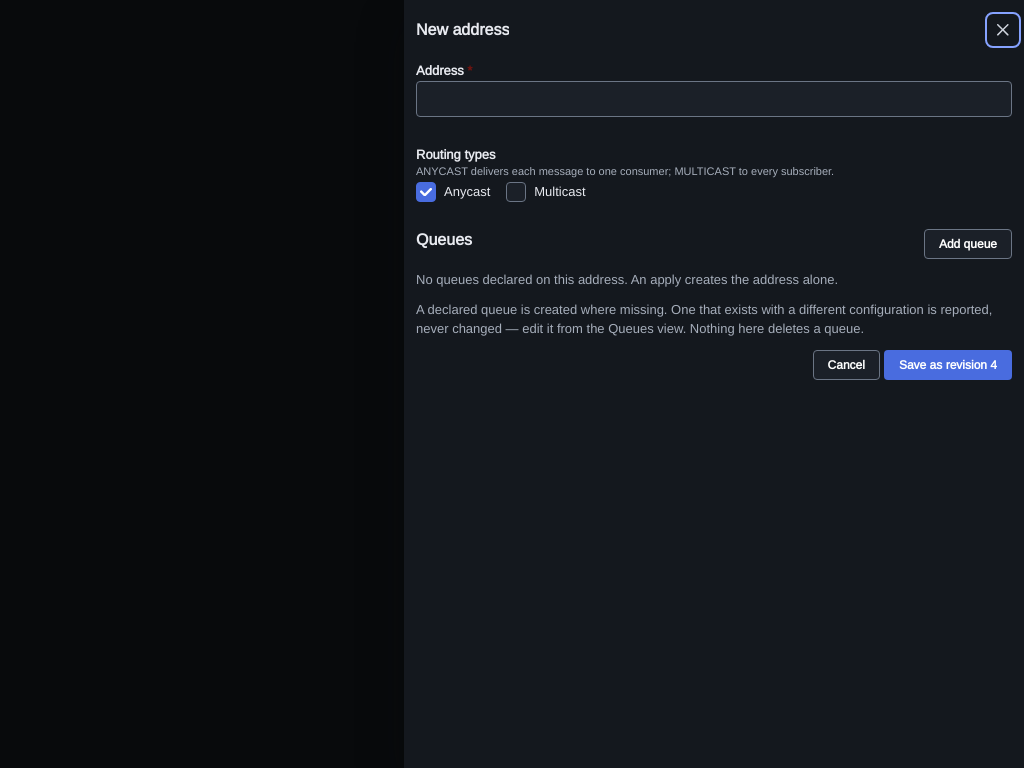
Test: AddressEditor › validates the name on blur, before any submit, and refuses one already declared
Click the field labelled "Address *".
click(714, 99)  # box x1=416 y1=81 x2=1012 y2=117
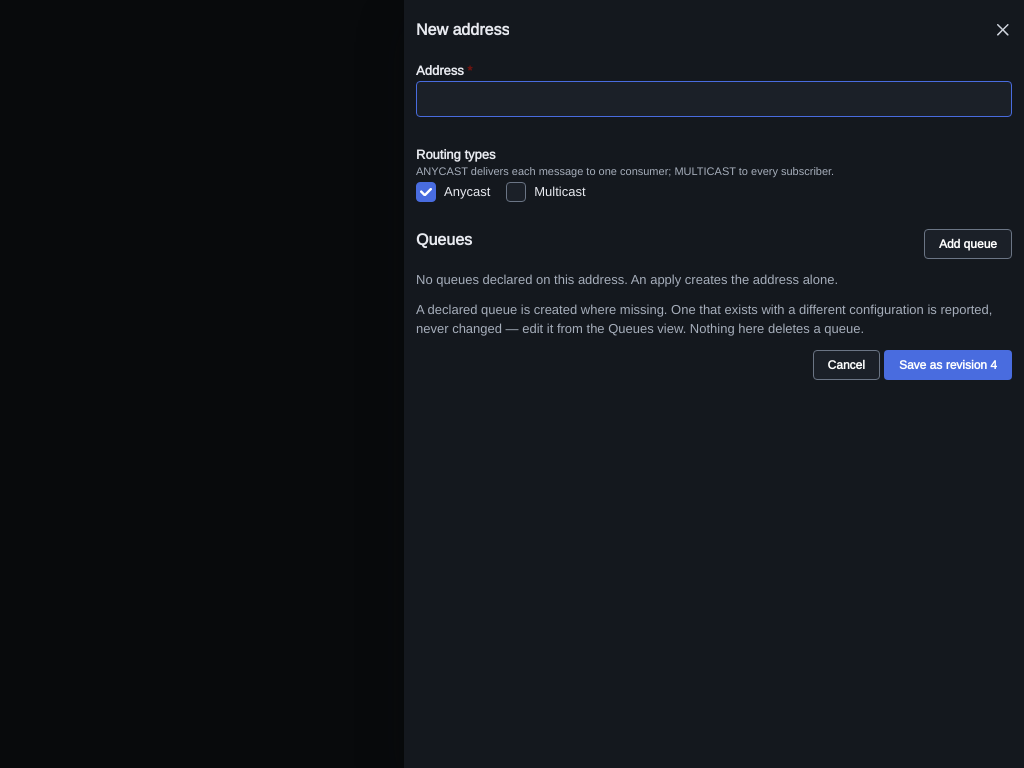
Press Tab
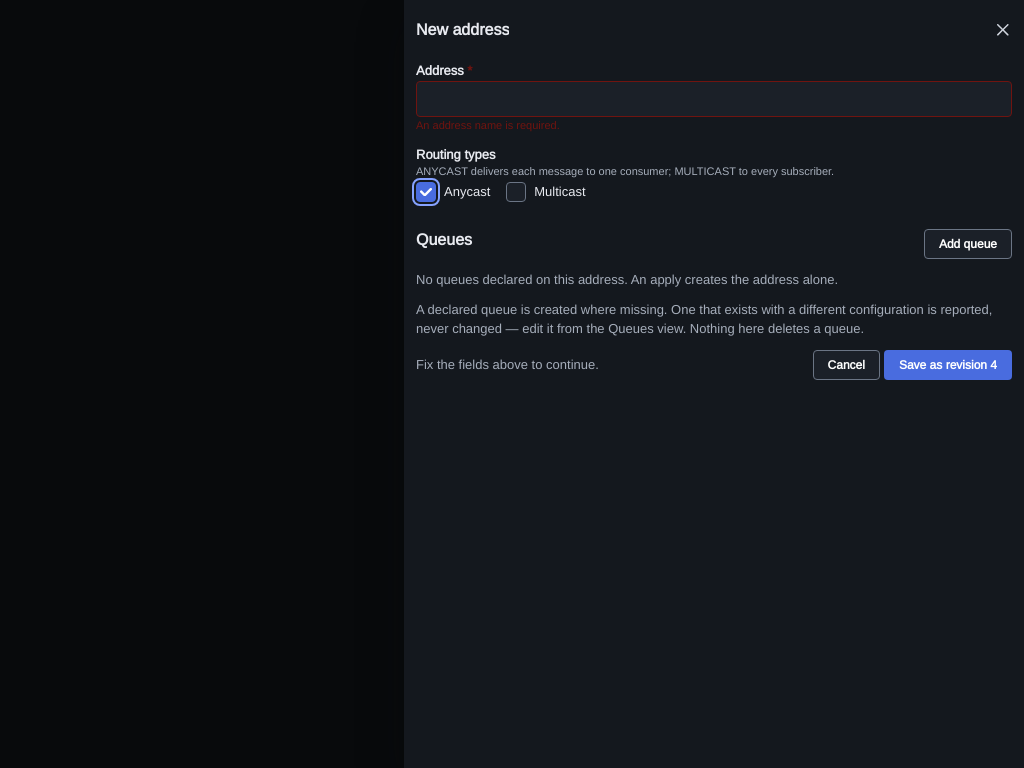
Expected: the text "An address name is required." is shown, x1=416 y1=118 x2=560 y2=132
Type "orders.request" into the field labelled "Address *".
click(714, 99); type("orders.request")  # box x1=416 y1=81 x2=1012 y2=117
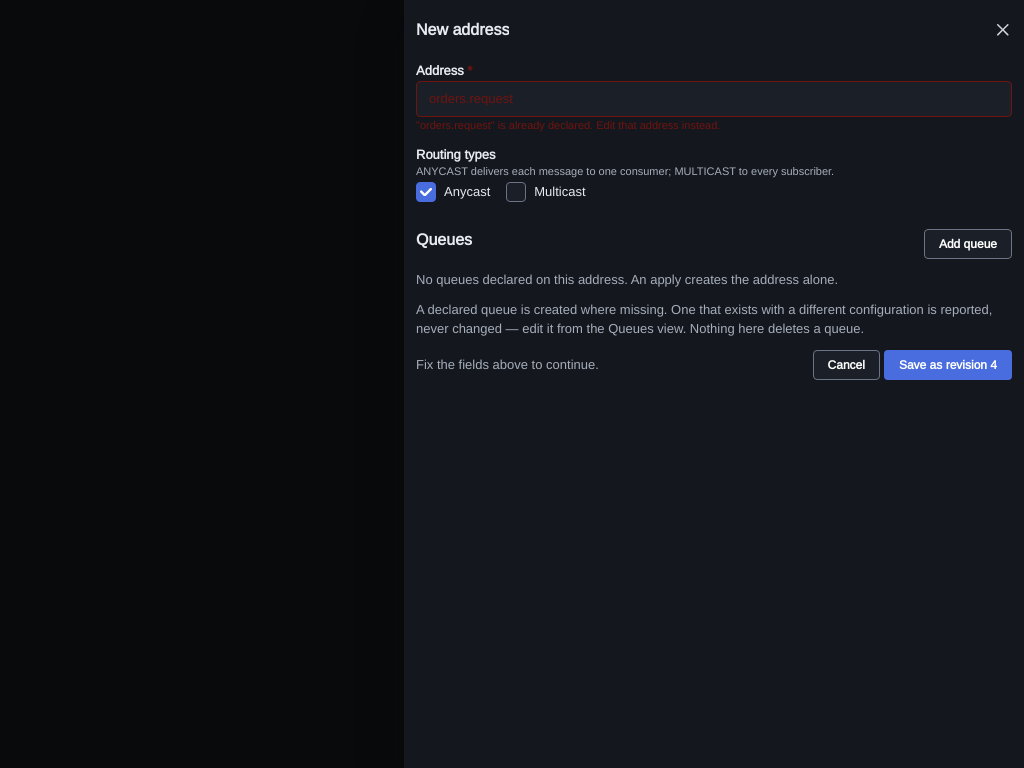
Expected: the text "\"orders.request\" is already declared. Edit that address instead." is shown, x1=416 y1=118 x2=720 y2=132
